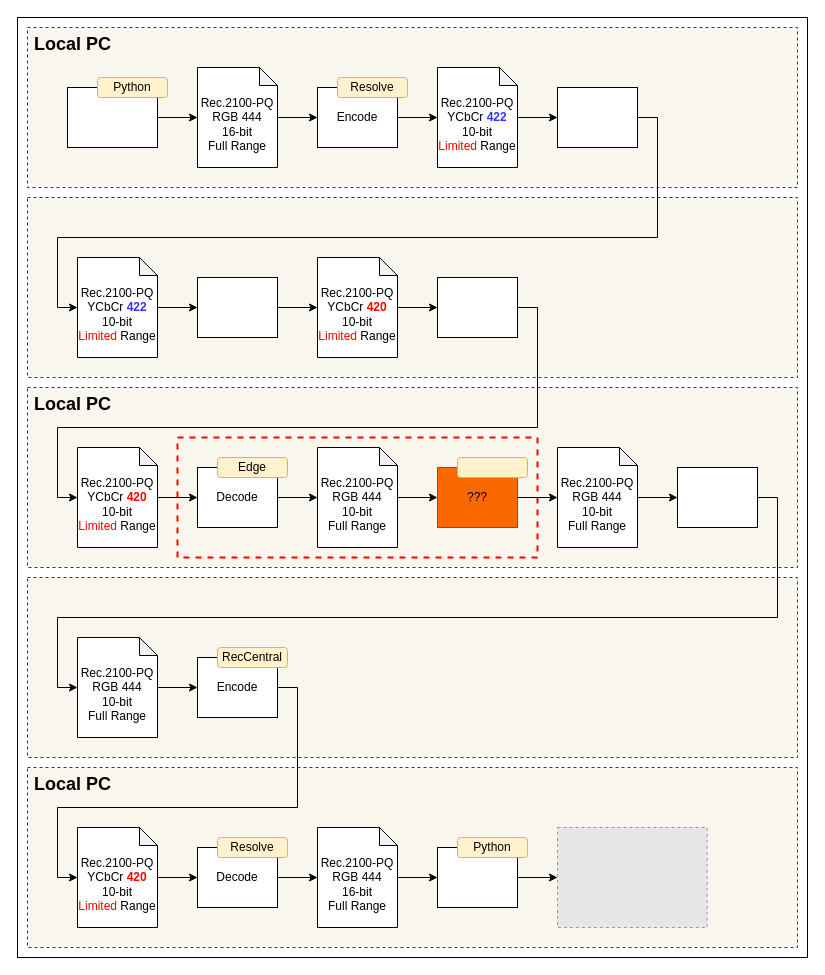
Image size: 825x975. Some labels were removed from this diagram. Grey dashed boxes stand in for pictures. The box of each missing label's shape, as (x1, y1, x2, y2) in pixels:
Capture Device: (26, 576, 798, 758)
HDMI Ouptut: (676, 466, 758, 528)
Plot Graph: (436, 846, 518, 908)
Stream: (436, 276, 518, 338)
Test Pattern Generation: (66, 86, 158, 148)
Transcode: (196, 276, 278, 338)
Upload to YouTube: (556, 86, 638, 148)
Windows?: (456, 456, 528, 478)
YouTube: (26, 196, 798, 378)
